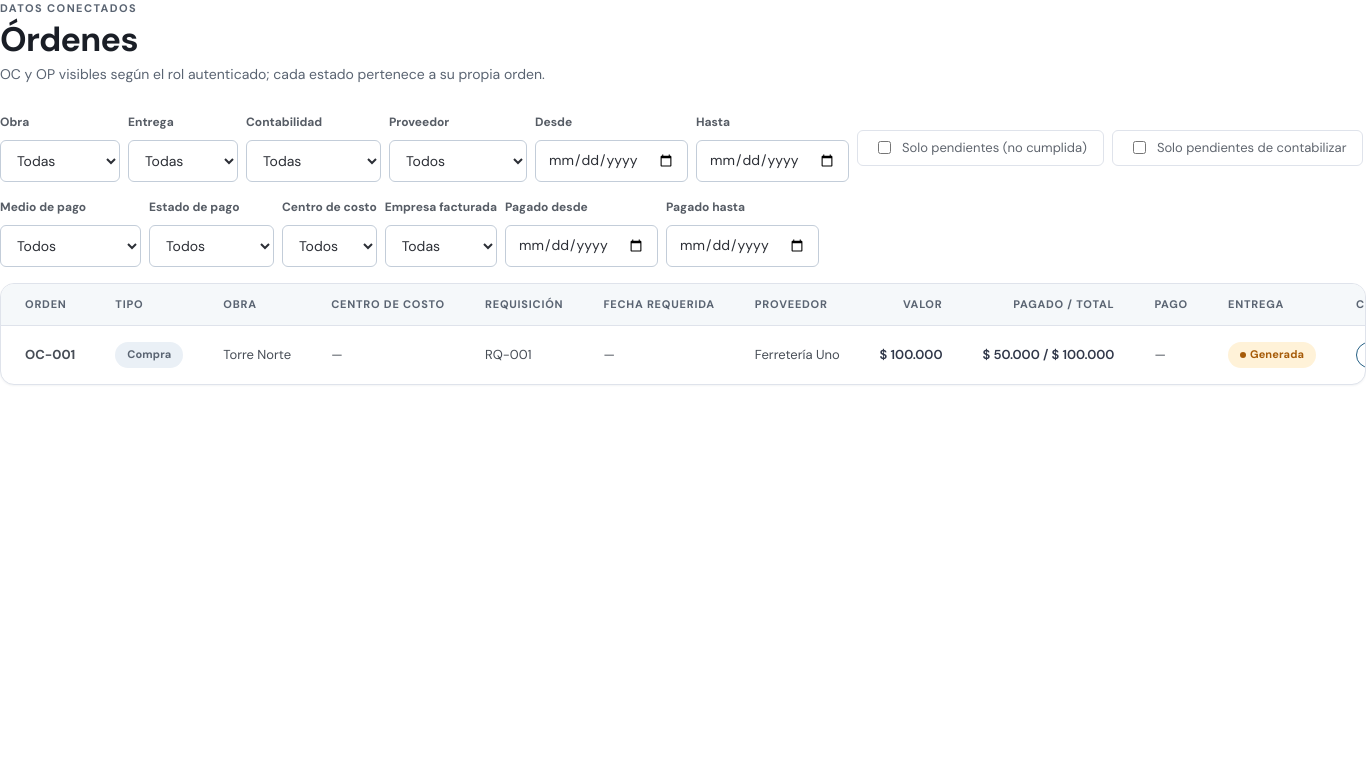
Test case: panel de Pagos — columna 'Pagado / Total' y diálogo de la ficha › un aprobador (sin payment:register) ve el historial pero no el botón de registro
Click the text "OC-001".
click(50, 354)  # box [25,346,75,363]
(page scrolled)
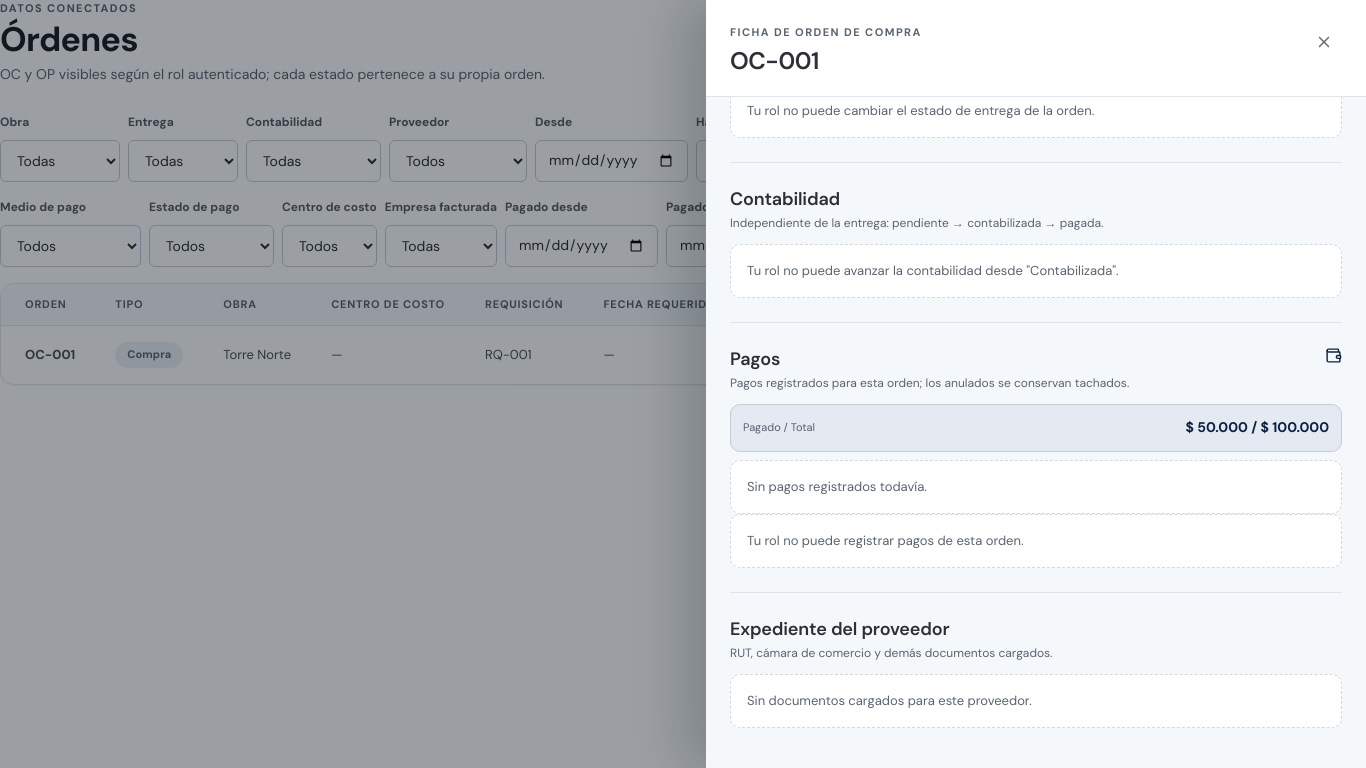
expect the text "Sin pagos registrados todavía." is shown: met, box [730,460,1342,514]
